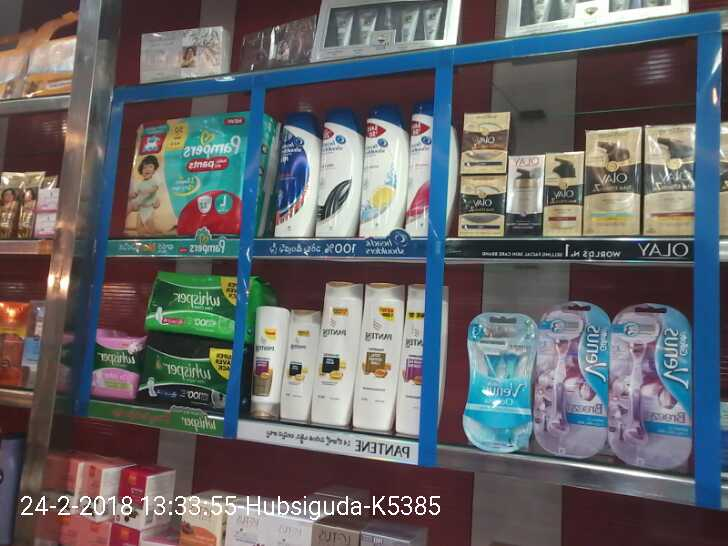venus: (606, 307, 686, 461), (458, 305, 540, 445), (540, 305, 606, 461)
